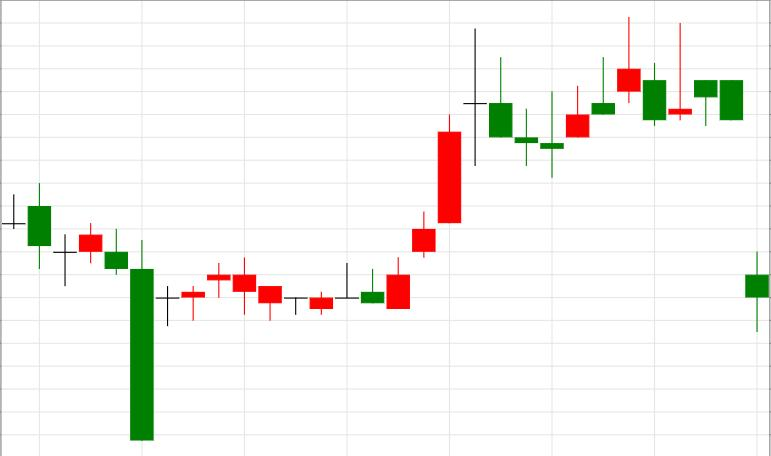shooting_star_fall: (539, 17, 641, 178)
